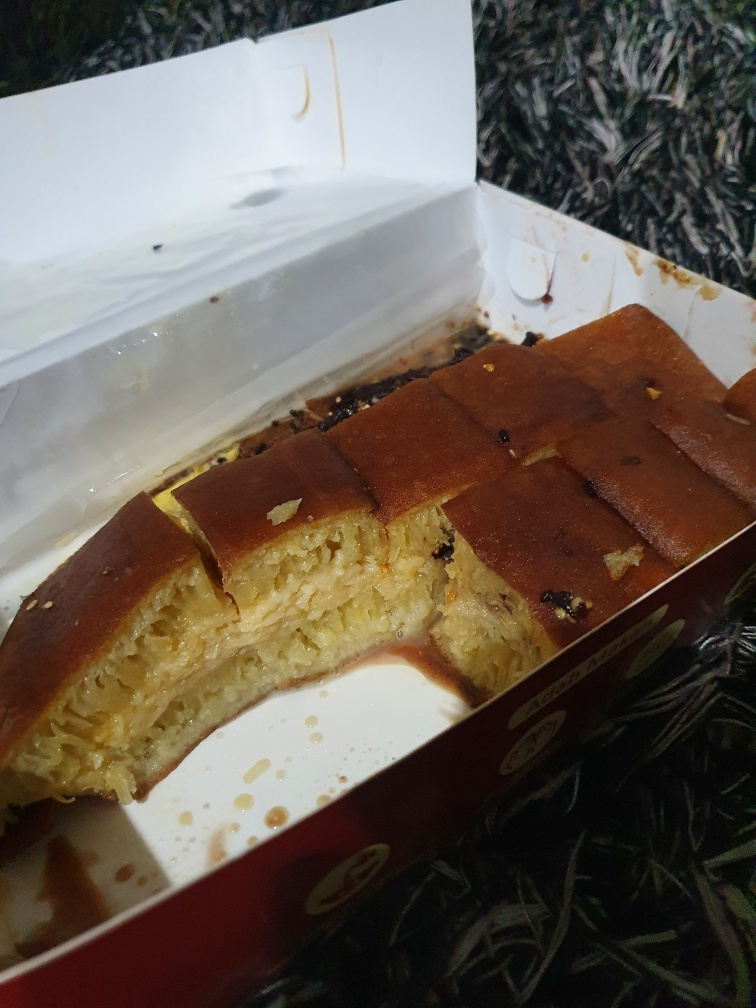martabak manis: (1, 504, 267, 808), (179, 455, 380, 692), (429, 464, 639, 671), (569, 400, 734, 564), (322, 371, 484, 494), (437, 330, 581, 455), (535, 298, 700, 406)
